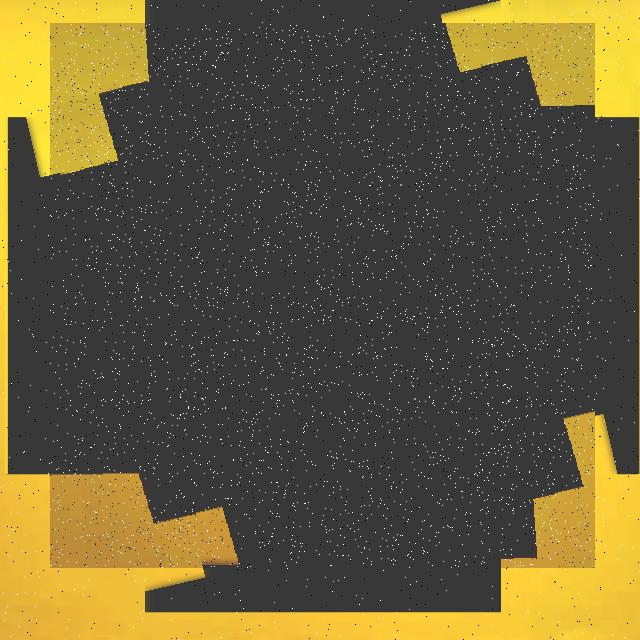lima puluh ribu rupiah: (50, 23, 595, 568)
